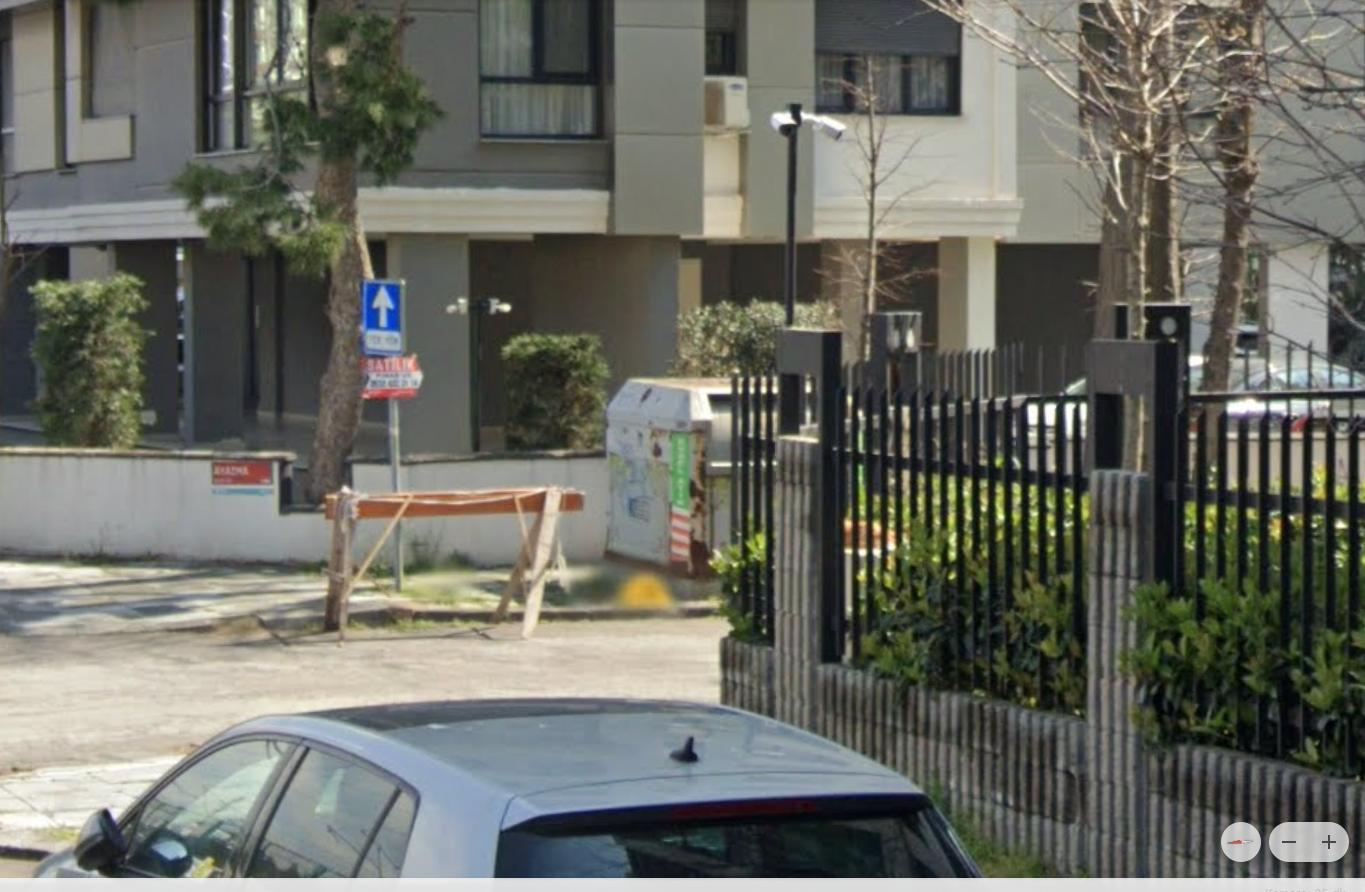forward: (360, 278, 408, 337)
